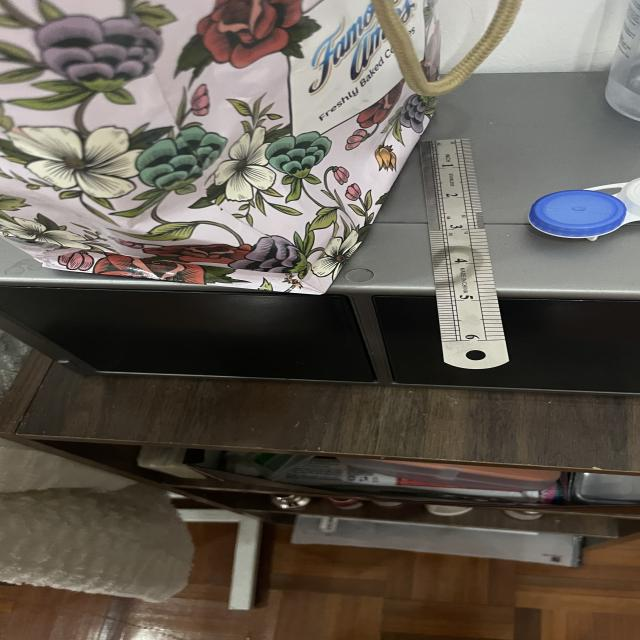ruler: (420, 139, 509, 369)
